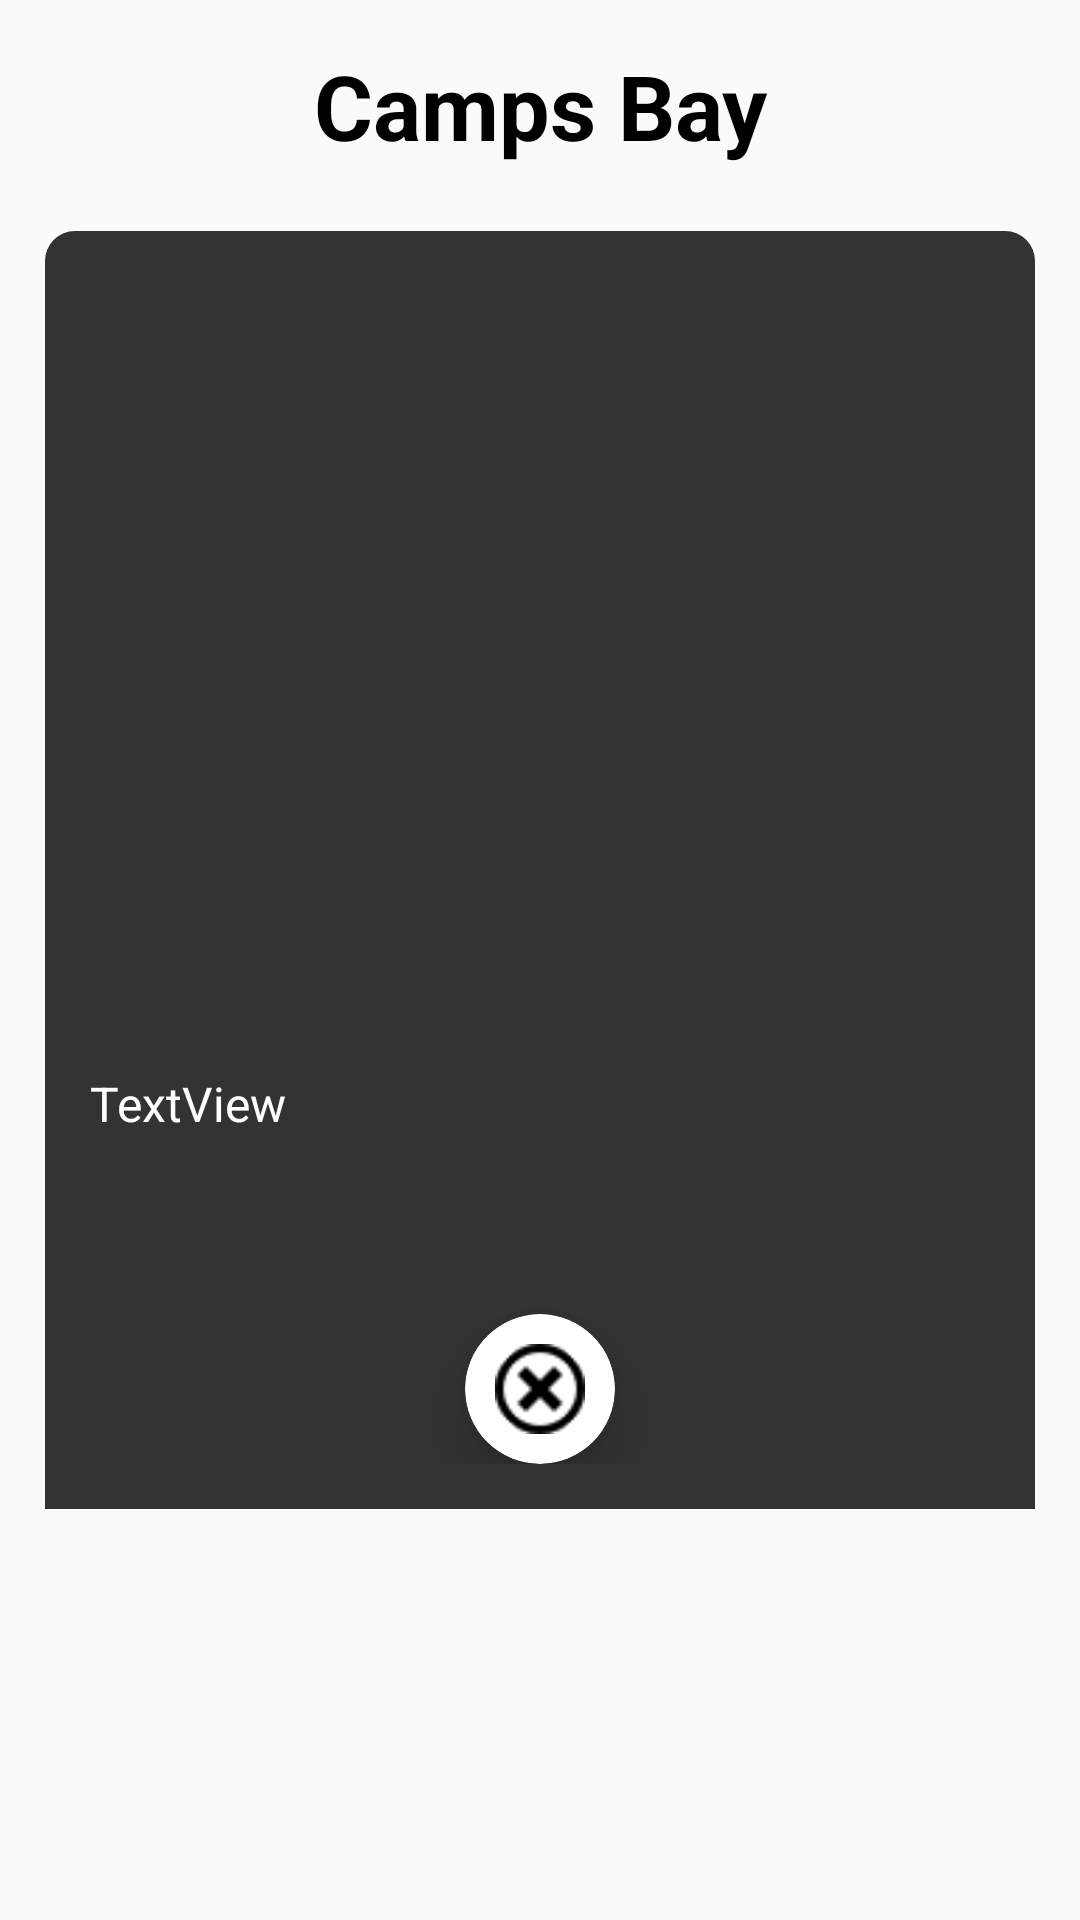

Screen size 1080px×1920px. Icon name, then its center in pixels as point (x, y):
close: point (540, 1389)
